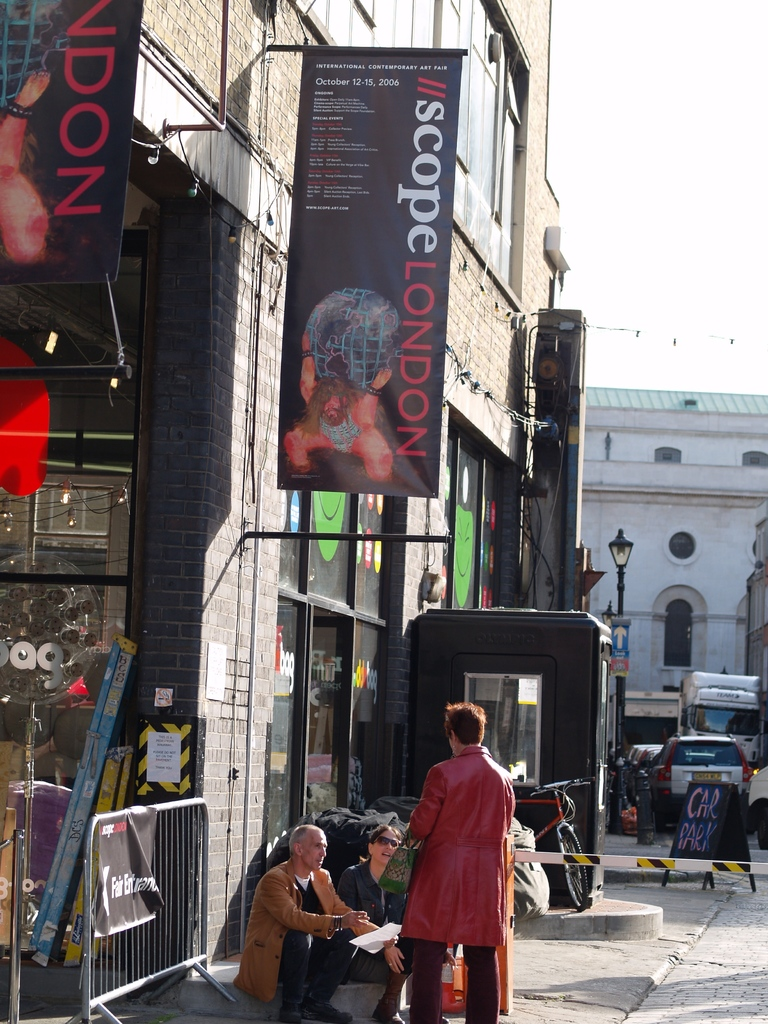Car: (639, 733, 753, 833), (748, 763, 767, 850), (636, 747, 662, 771)
